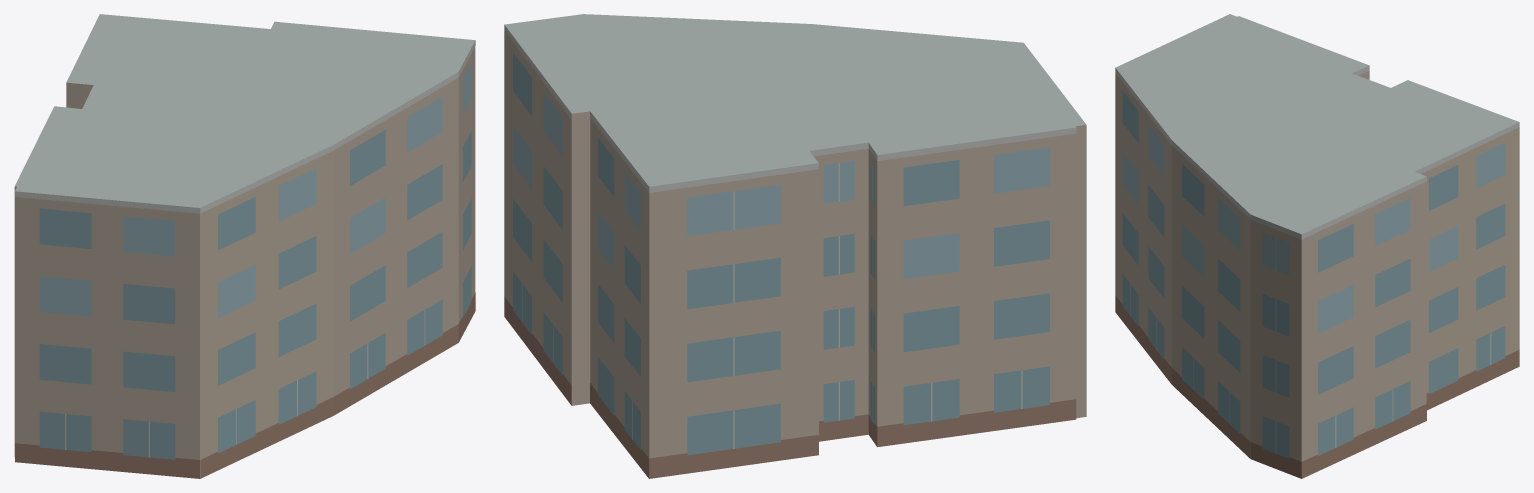
File: survey-upis-32954530.glb
3 renders of one model, left to right at view 1: azimuth 30°, elevation 25°; view 2: azimuth 150°, elevation 25°; view 3: azimuth 270°, elevation 25°, orthographic. The views are drawn at different scales.
Parts seen in each view (by area): view 1: survey-upis-32954530.tmp; view 2: survey-upis-32954530.tmp; view 3: survey-upis-32954530.tmp.
Part boxes in pixels (x1=…): survey-upis-32954530.tmp: x1=14, y1=14, x2=475, y2=478; survey-upis-32954530.tmp: x1=504, y1=14, x2=1086, y2=478; survey-upis-32954530.tmp: x1=1115, y1=14, x2=1519, y2=478.
Bounding box in the file's own units: 22.43 × 11.6 × 17.38.
